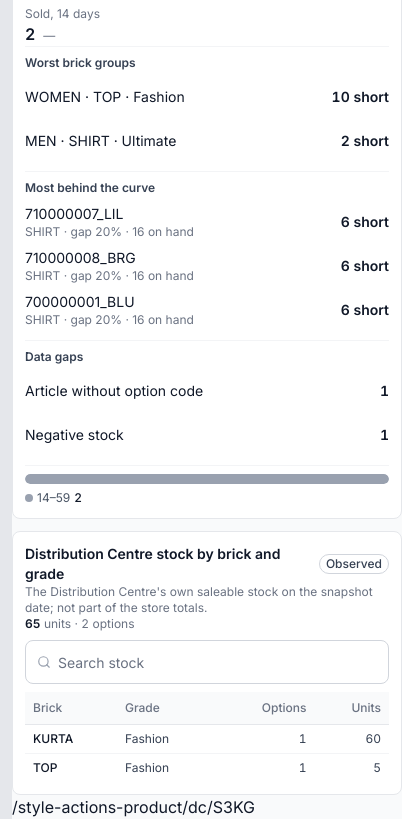
Test case: Distribution Centre overview in 2bc › searches the Distribution Centre stock by brick or grade
The width and height of the screenshot is (402, 819).
(page scrolled)
In the field with placeholder "Search stock": (207, 662) [25,640,389,684], type "none"
(page scrolled)
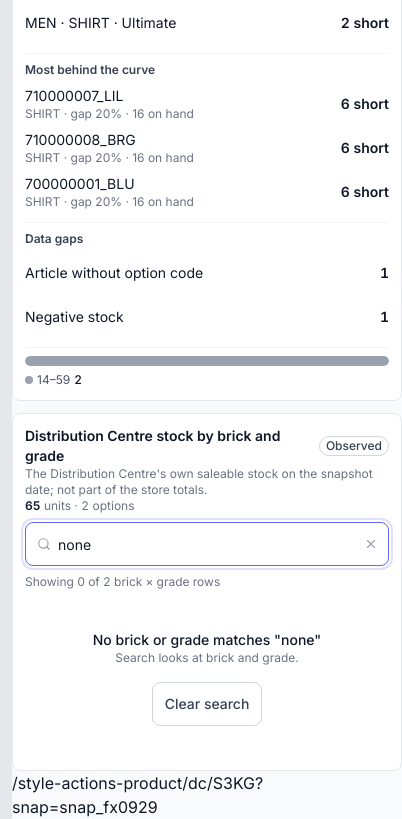
Expected: the text "No brick or grade matches \"none\"" is shown, [93,631,321,648]
Click the button with test id "dc-stock-clear-search": (207, 704) [152,682,262,726]
(page scrolled)
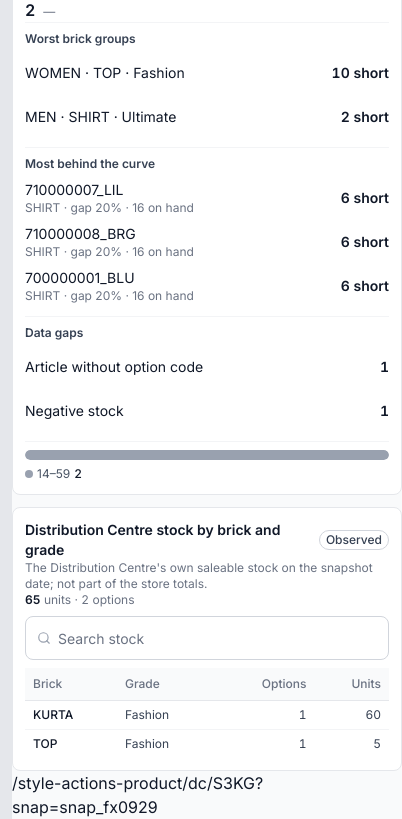
Expected: the text "KURTA" is shown, [25,701,117,730]
